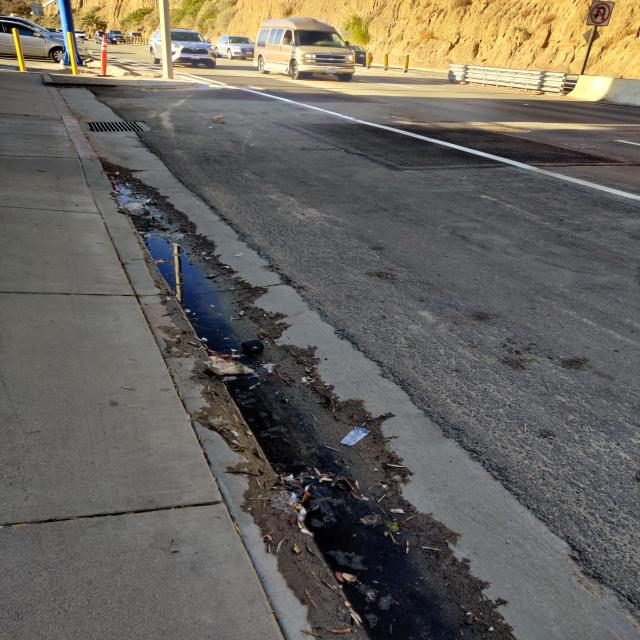litter: (204, 356, 254, 375), (340, 427, 370, 446), (241, 339, 264, 352), (123, 203, 142, 211), (258, 365, 272, 372), (114, 182, 122, 191), (59, 60, 64, 68), (154, 260, 163, 262)
